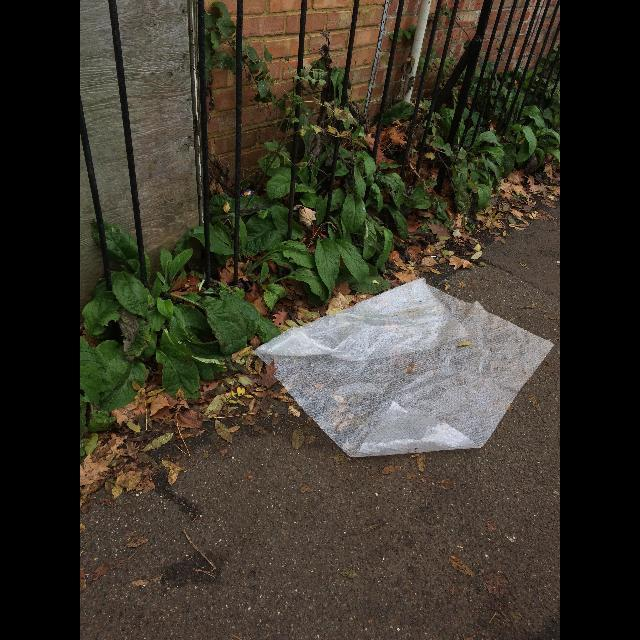Plastic: (253, 277, 555, 457)
